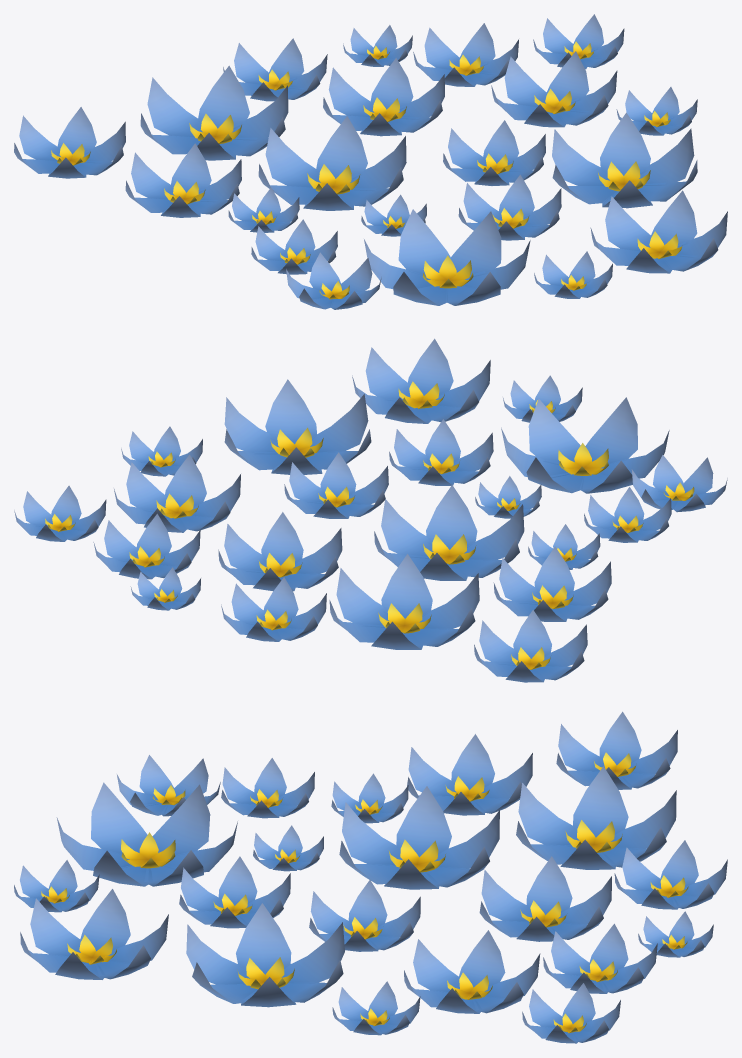
3 views of the same model, one above another, from view 1: azimuth 30°, elevation 25°; view 2: azimuth 150°, elevation 25°; view 3: azimuth 270°, elevation 25° (orthographic). The views are drawn at different scales.
Parts seen in each view (by area): view 1: Circle_018; view 2: Circle_018; view 3: Circle_018.
Boxes of the visible parts, x1,y1,x2,y2 form: Circle_018: [14, 14, 727, 309]; Circle_018: [14, 338, 727, 682]; Circle_018: [14, 711, 727, 1043].
Bounding box in the file's own units: 190 × 13.53 × 186.
Materials: 1 (1 with a texture image).
